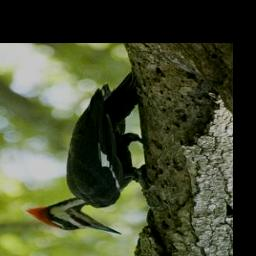Woodpecker: (25, 72, 149, 234)
